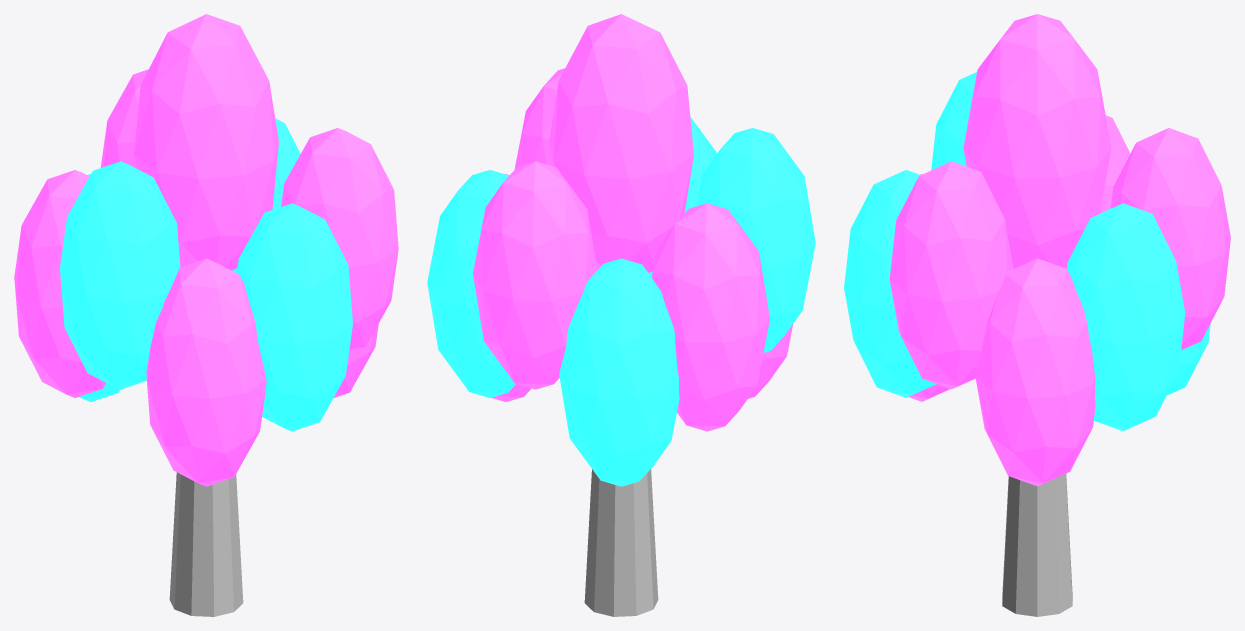
3 views of the same model, side by side, from view 1: azimuth 30°, elevation 25°; view 2: azimuth 150°, elevation 25°; view 3: azimuth 270°, elevation 25° (orthographic).
Parts seen in each view (by area): view 1: Neon_HoloTree_Showcase; view 2: Neon_HoloTree_Showcase; view 3: Neon_HoloTree_Showcase.
Part boxes in pixels (<box>): Neon_HoloTree_Showcase: <box>14,14,398,616</box>; Neon_HoloTree_Showcase: <box>427,14,815,616</box>; Neon_HoloTree_Showcase: <box>844,14,1230,616</box>.
Bounding box in the file's own units: 2.07 × 3.5 × 2.09.
